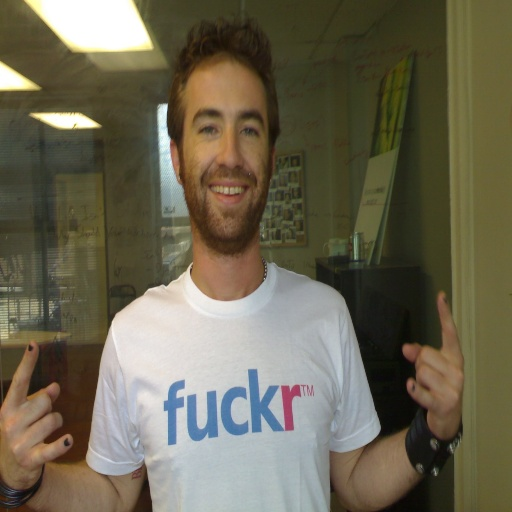hand: (0, 339, 74, 492), (401, 290, 466, 441)
